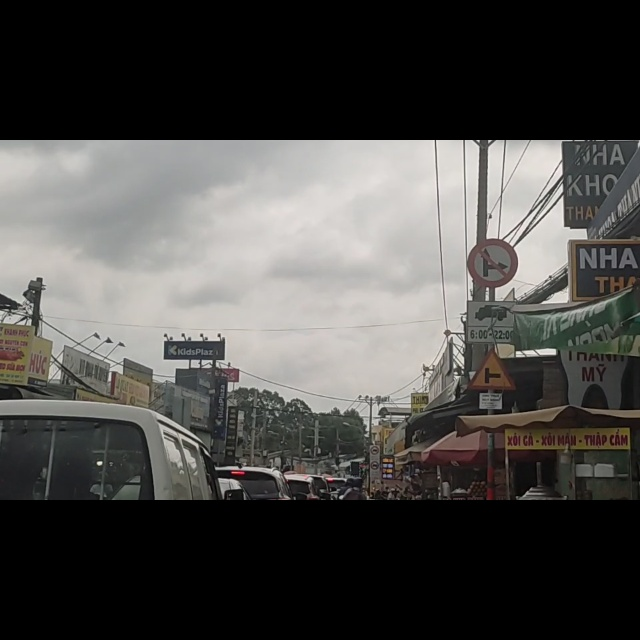bien_cam: (469, 177, 516, 257), (467, 289, 519, 358), (469, 373, 514, 444)
